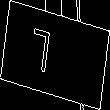L_S: (43, 27, 67, 83)
